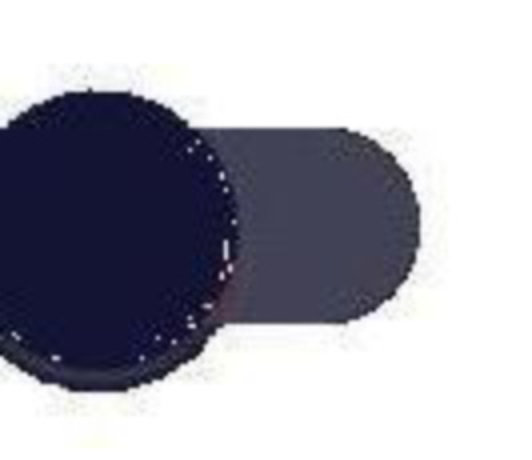Switch: (1, 1, 531, 459)
